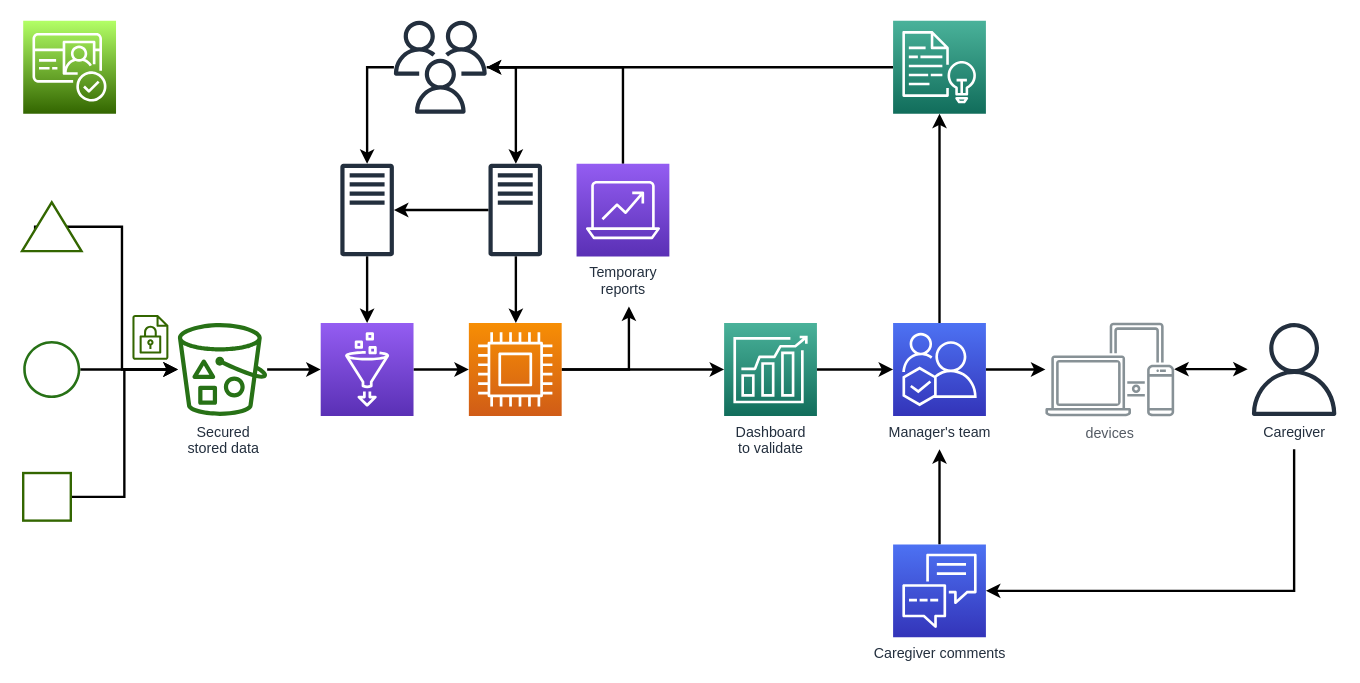
This 1360x683 diagram has some shape labels left out. The shapes that lost their labels are listed below. From the top down, each one's centre as x and y in pixels, then its label:
At pixel 69 67: "Customers".
At pixel 439 66: "Developers".
At pixel 367 369: "Clean data".
At pixel 515 369: "Analysis and modeling".
